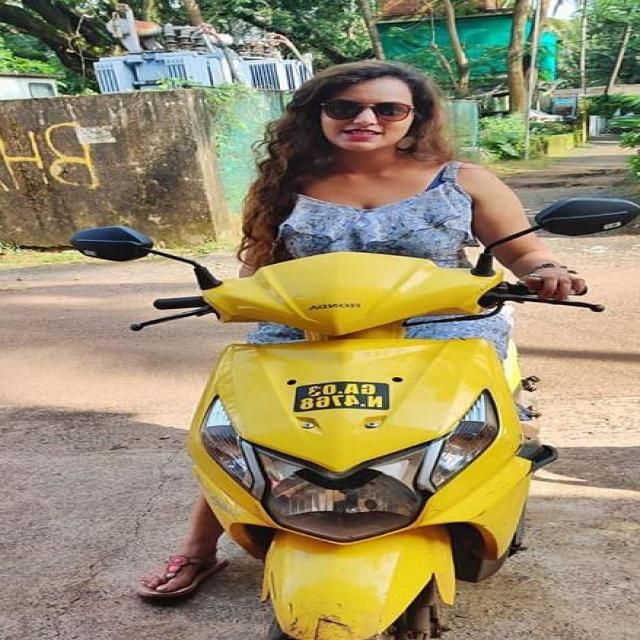Not Wearing Helmet: (265, 44, 548, 174)
